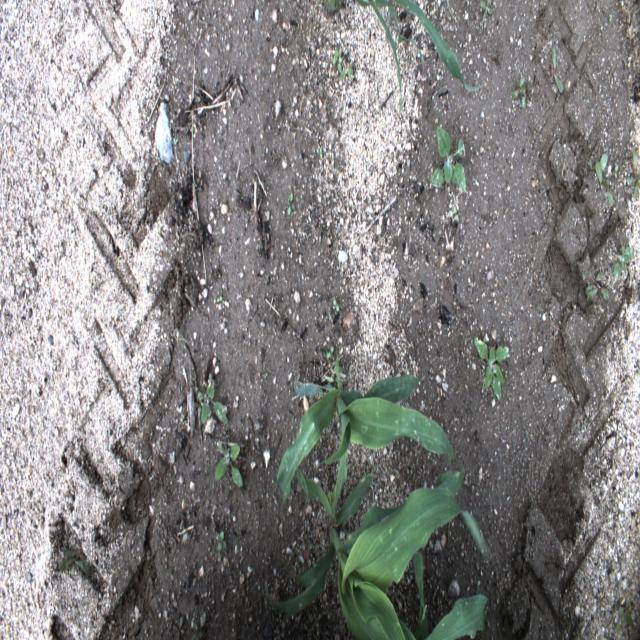crop: (263, 451, 495, 638), (276, 344, 459, 502), (355, 0, 474, 92)
weed: (428, 126, 469, 224), (474, 336, 509, 402), (196, 380, 235, 428), (214, 438, 243, 489), (590, 151, 614, 209), (583, 267, 616, 304), (58, 549, 93, 580), (612, 244, 634, 280), (332, 48, 354, 82), (511, 74, 531, 110), (550, 44, 564, 92), (477, 0, 494, 25), (216, 530, 228, 552), (288, 191, 293, 216), (333, 297, 340, 313)
